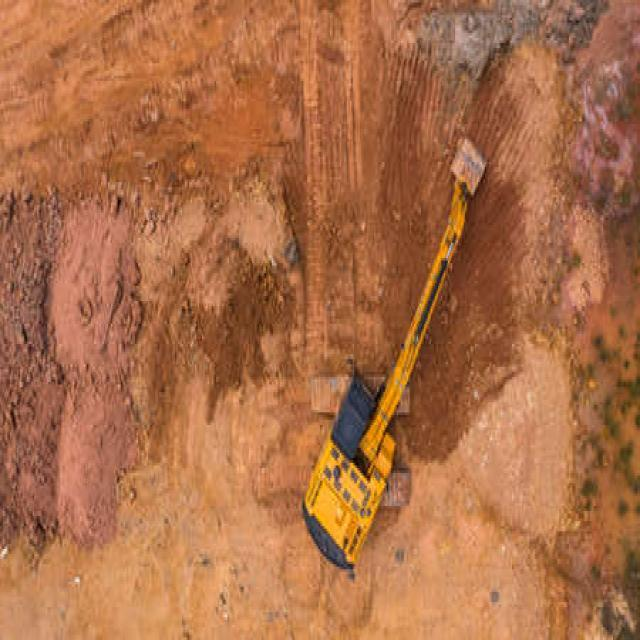excavator: (300, 139, 488, 572)
